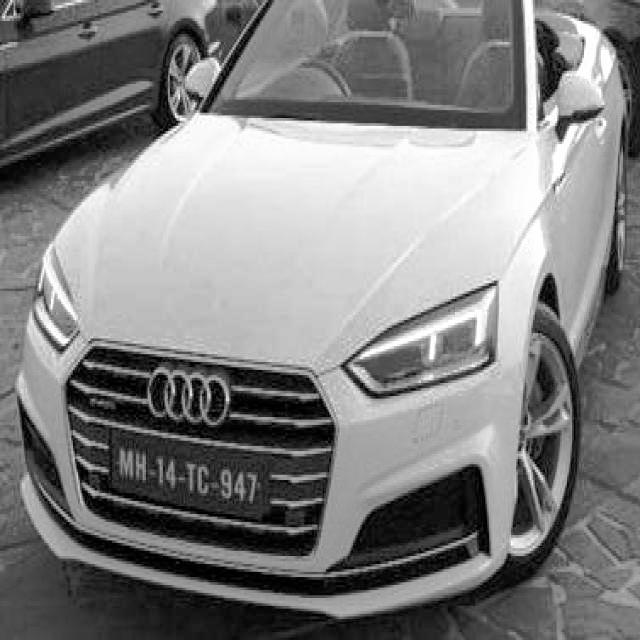Car: (49, 0, 609, 619)
